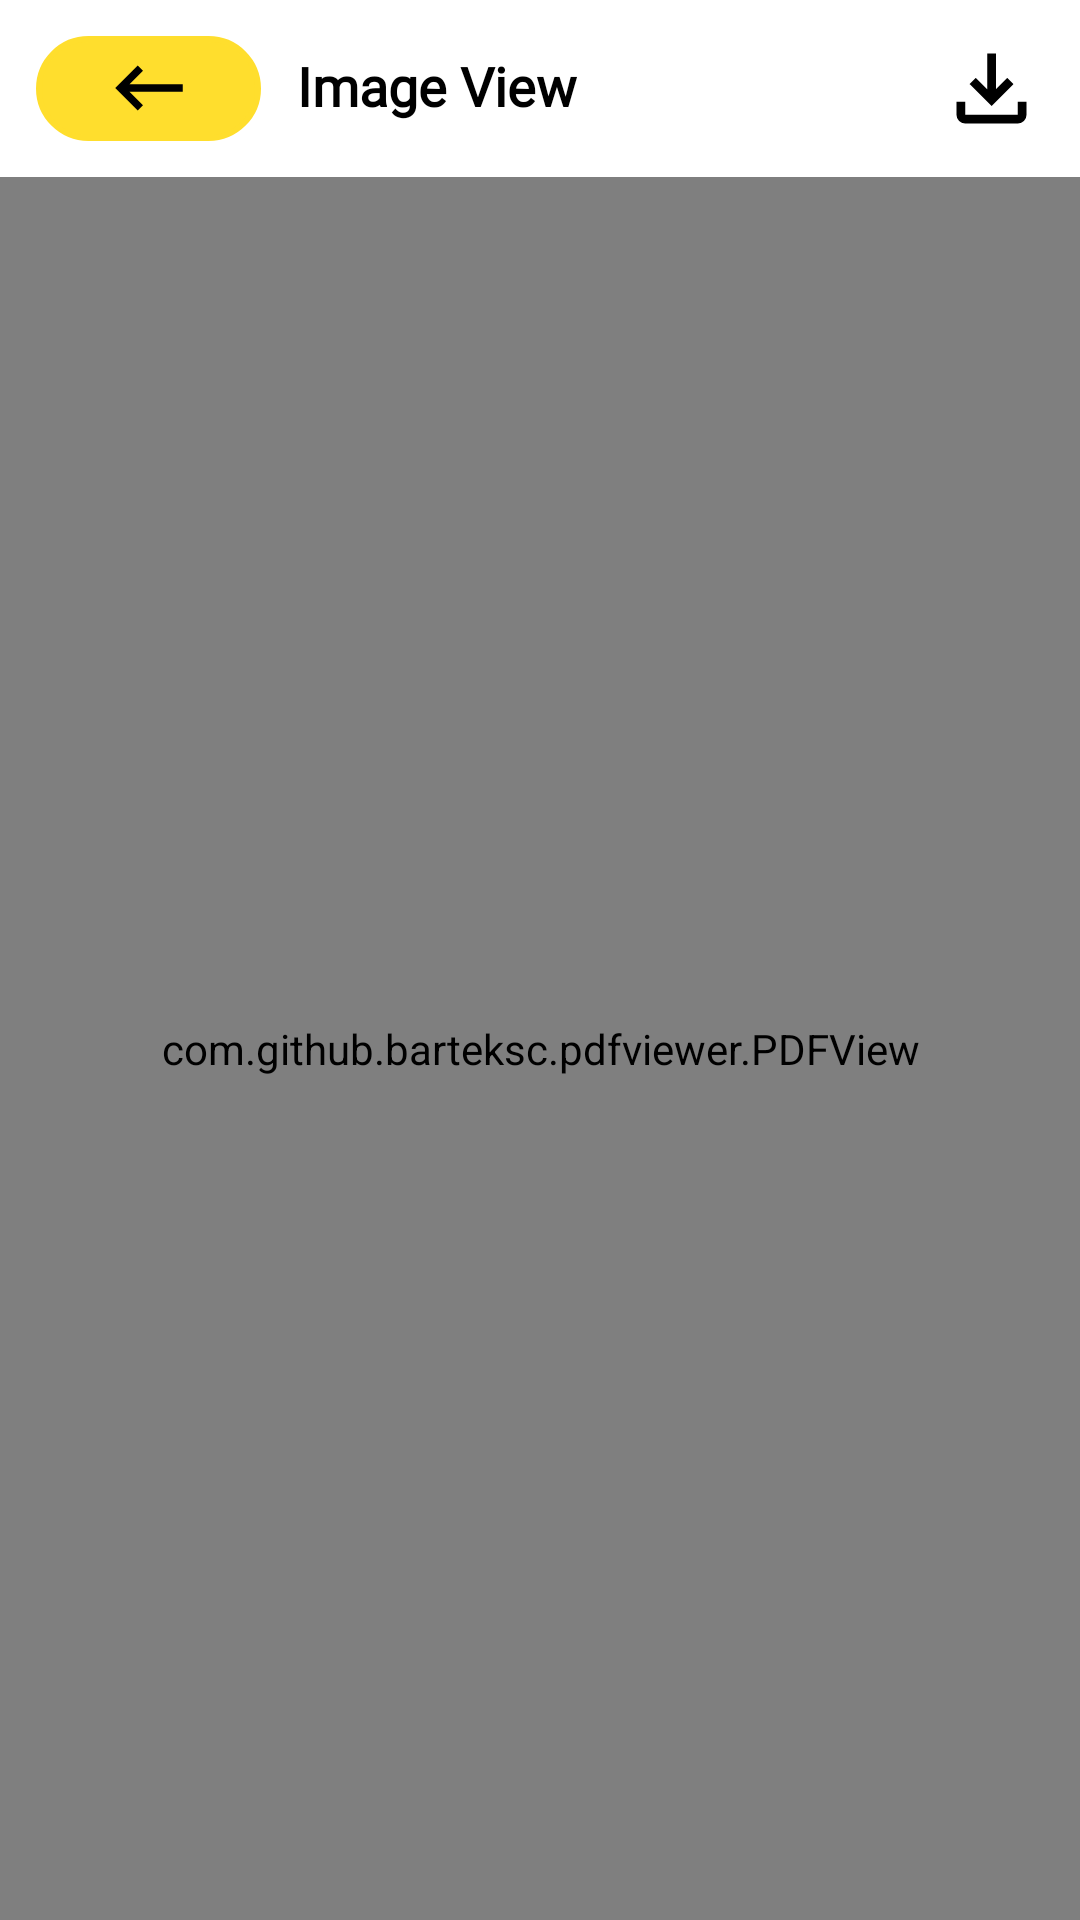

Icons on this 1080w x 1920h Android screen, each with the point to tap as point (x, y):
download: point (991, 88)
keyboard backspace: point (149, 88)
